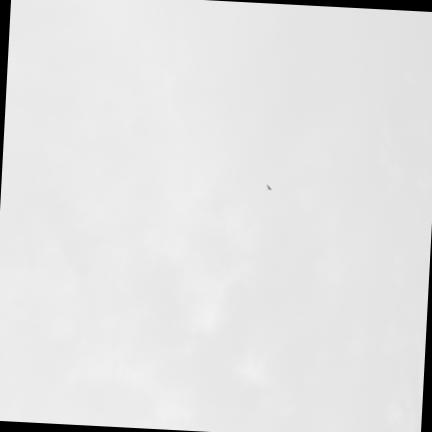Shahed: (266, 183, 273, 189)
